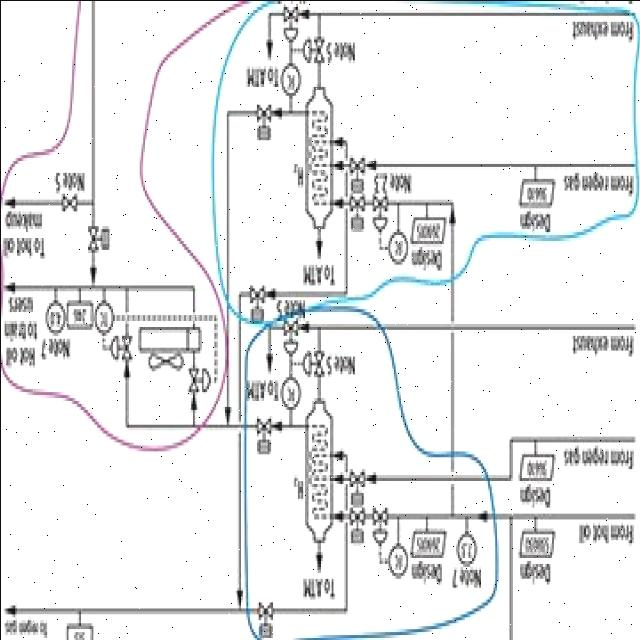Pneumatic-Diaphragm Gate Valve: (299, 27, 332, 64), (369, 500, 389, 548), (283, 314, 301, 360), (277, 3, 300, 38), (185, 366, 213, 394)
Rotary Piston-Pneumatic Gate Valve: (346, 158, 370, 244), (82, 214, 120, 262), (249, 99, 274, 143), (250, 416, 274, 458), (348, 467, 366, 508), (347, 508, 365, 544)
